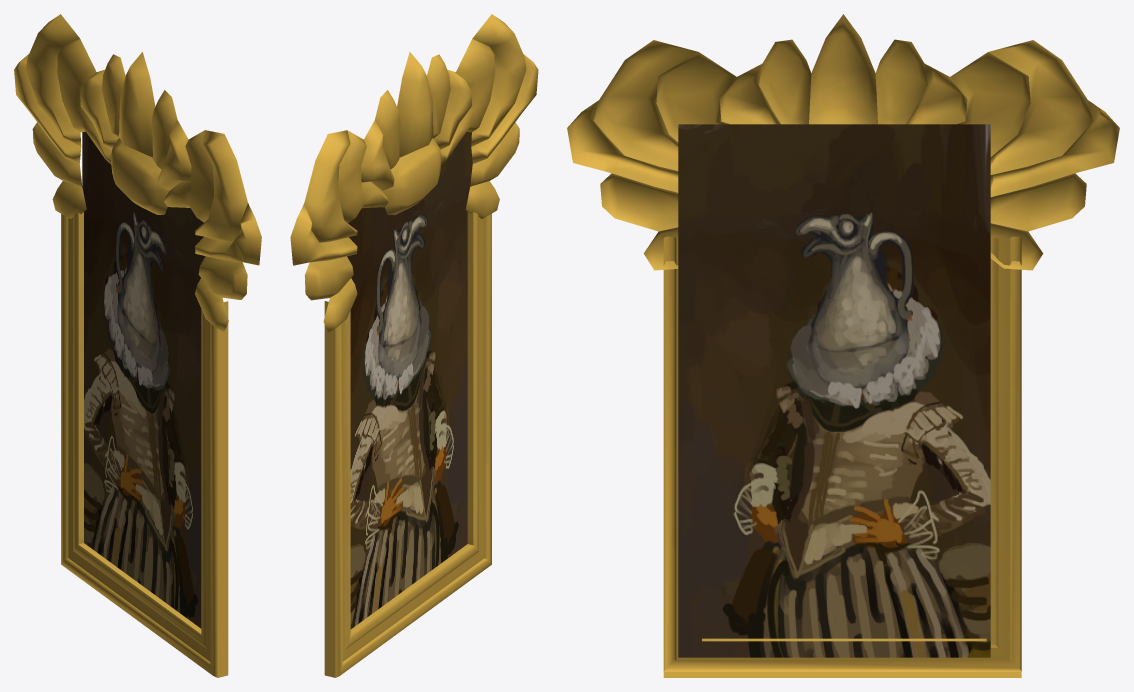
File: paintingFrame4.fbx
3 renders of one model, left to right at view 1: azimuth 30°, elevation 25°; view 2: azimuth 150°, elevation 25°; view 3: azimuth 270°, elevation 25°, orthographic. The views are drawn at different scales.
Parts seen in each view (by area): view 1: paintingPicture4, painting4Detail, paintingFrame4; view 2: paintingPicture4, painting4Detail, paintingFrame4; view 3: paintingPicture4, painting4Detail, paintingFrame4.
Part boxes in pixels (x1=…): paintingPicture4: x1=82, y1=131, x2=205, y2=628; painting4Detail: x1=14, y1=14, x2=261, y2=332; paintingFrame4: x1=61, y1=212, x2=228, y2=677; paintingPicture4: x1=347, y1=131, x2=472, y2=629; painting4Detail: x1=290, y1=14, x2=538, y2=332; paintingFrame4: x1=324, y1=212, x2=491, y2=677; paintingPicture4: x1=678, y1=124, x2=990, y2=657; painting4Detail: x1=567, y1=14, x2=1119, y2=270; paintingFrame4: x1=663, y1=236, x2=1021, y2=677.
Size of the model in its own units: 0.365 by 7.3 by 5.55.
2 materials, 2 textured.
